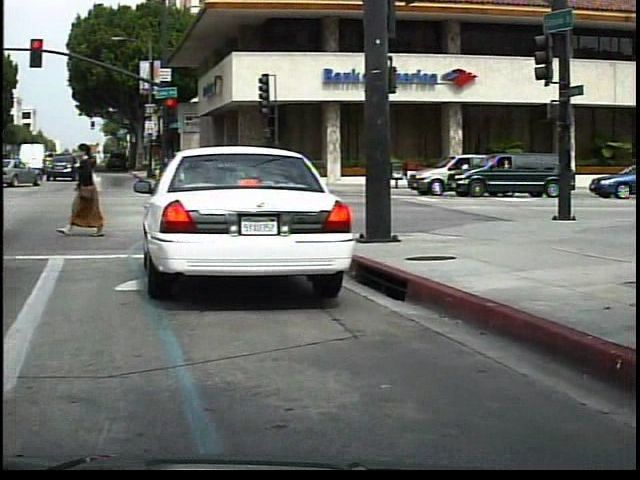person: (68, 138, 118, 242)
